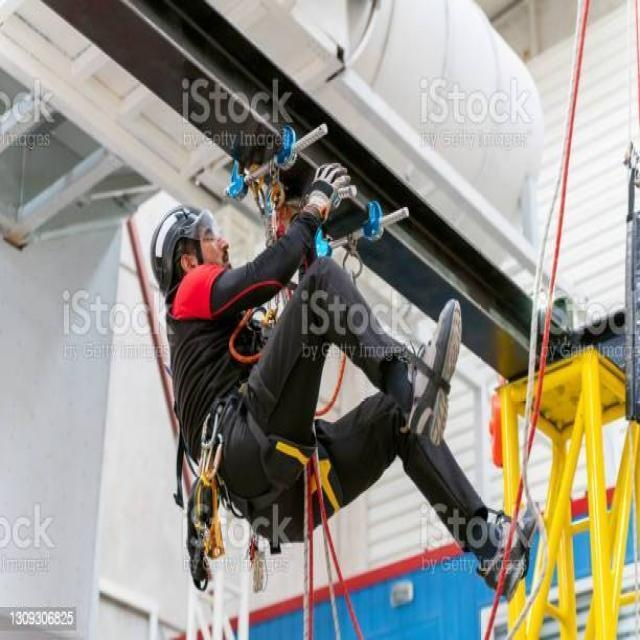Arnes_seguridad: (153, 258, 349, 566)
